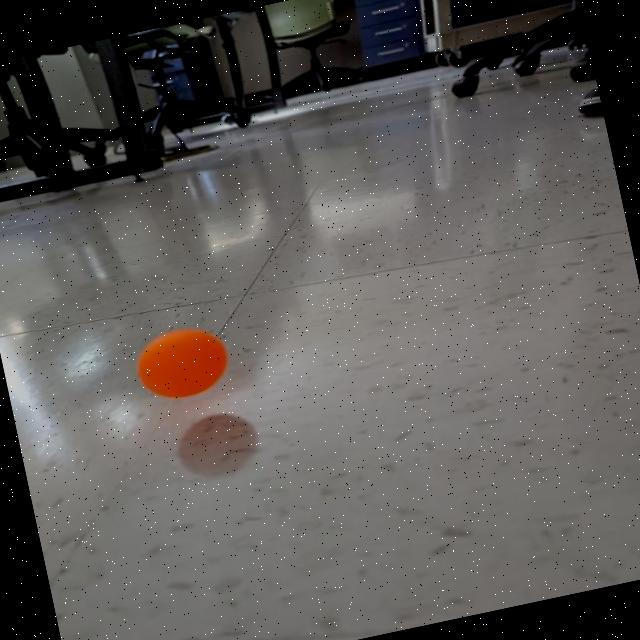ping-pong-ball: (124, 314, 240, 410)
